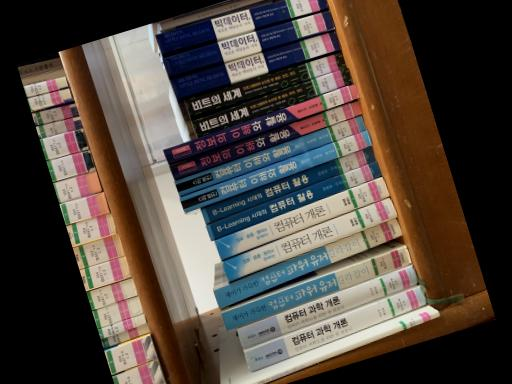book-spine: (213, 217, 402, 308), (220, 245, 410, 330), (161, 83, 359, 164), (179, 129, 371, 212), (243, 285, 426, 372), (173, 114, 366, 195), (169, 98, 362, 179), (236, 264, 417, 348), (221, 196, 397, 281), (213, 176, 389, 259), (246, 309, 439, 384), (205, 160, 381, 239), (200, 145, 375, 223), (161, 8, 334, 77), (170, 29, 341, 98), (190, 67, 352, 137), (183, 50, 346, 119), (155, 0, 327, 54)
